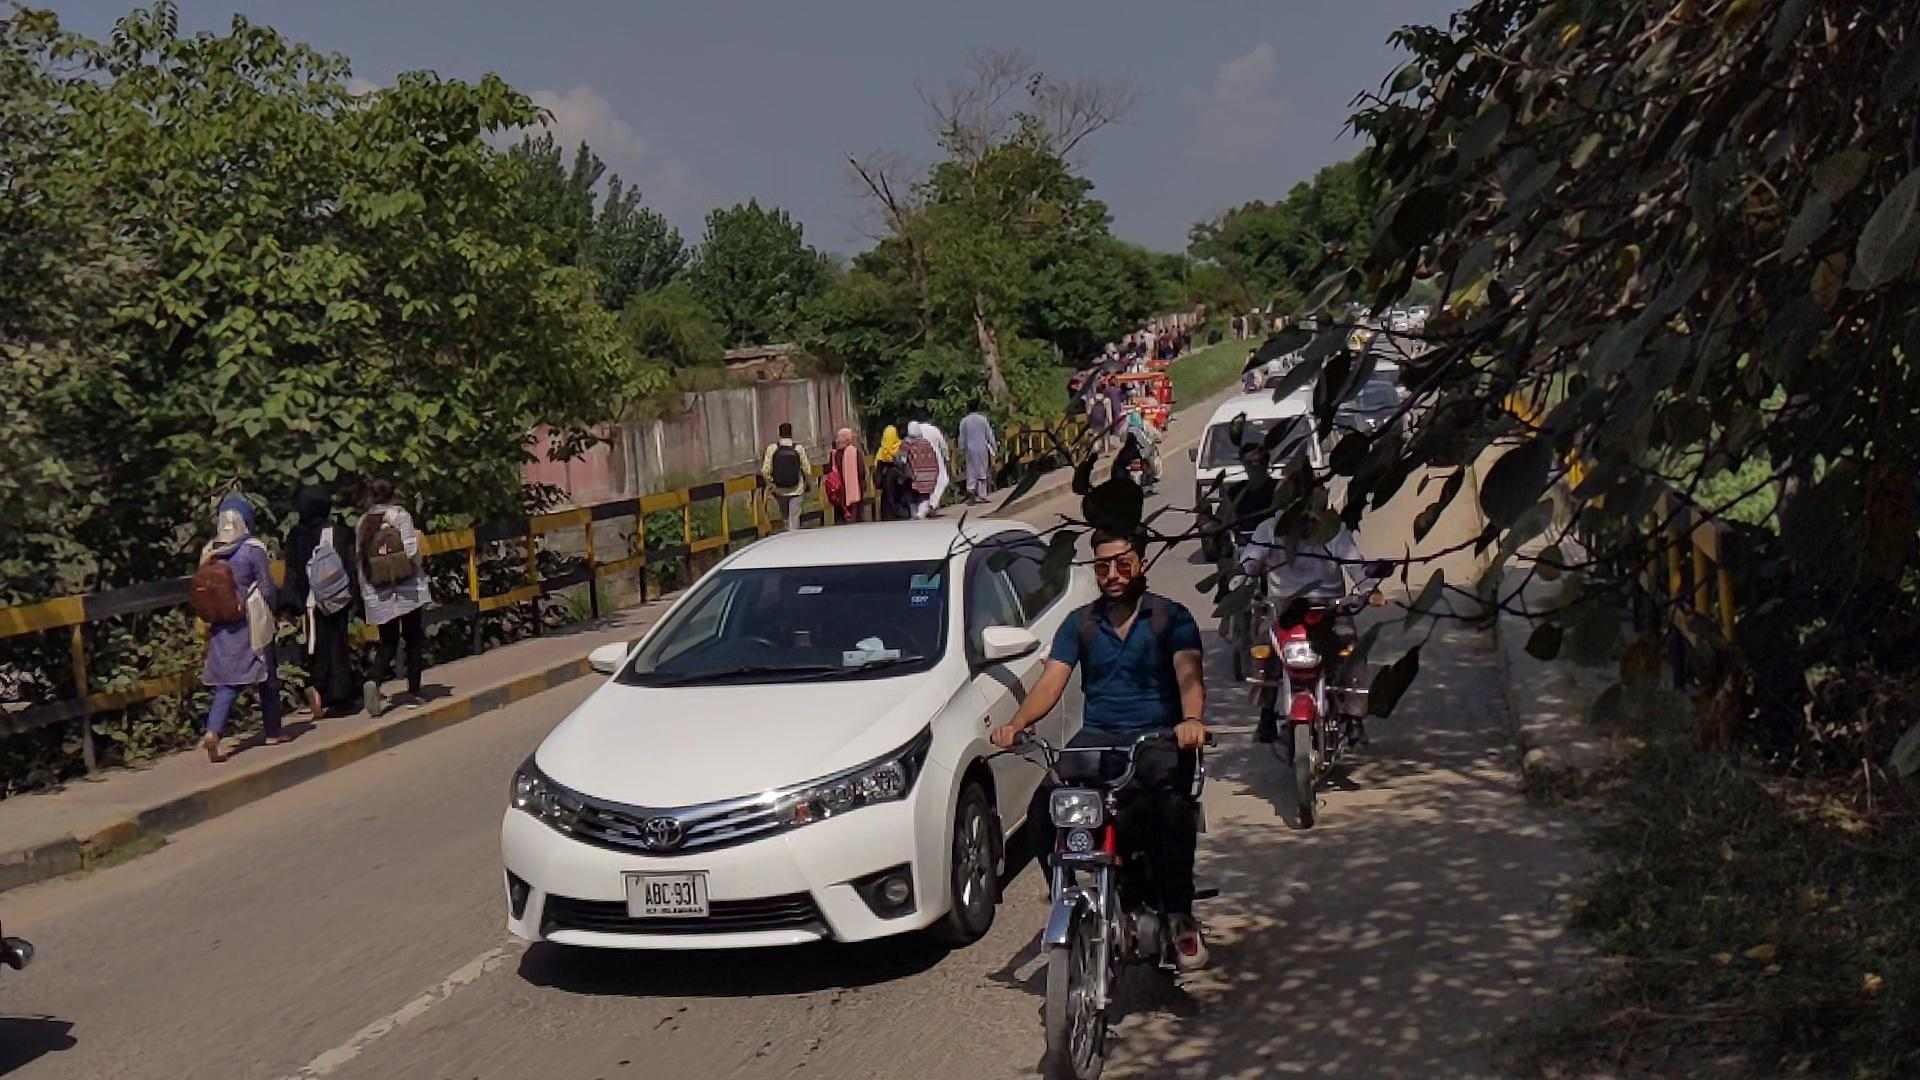windshield: (617, 554, 953, 674)
